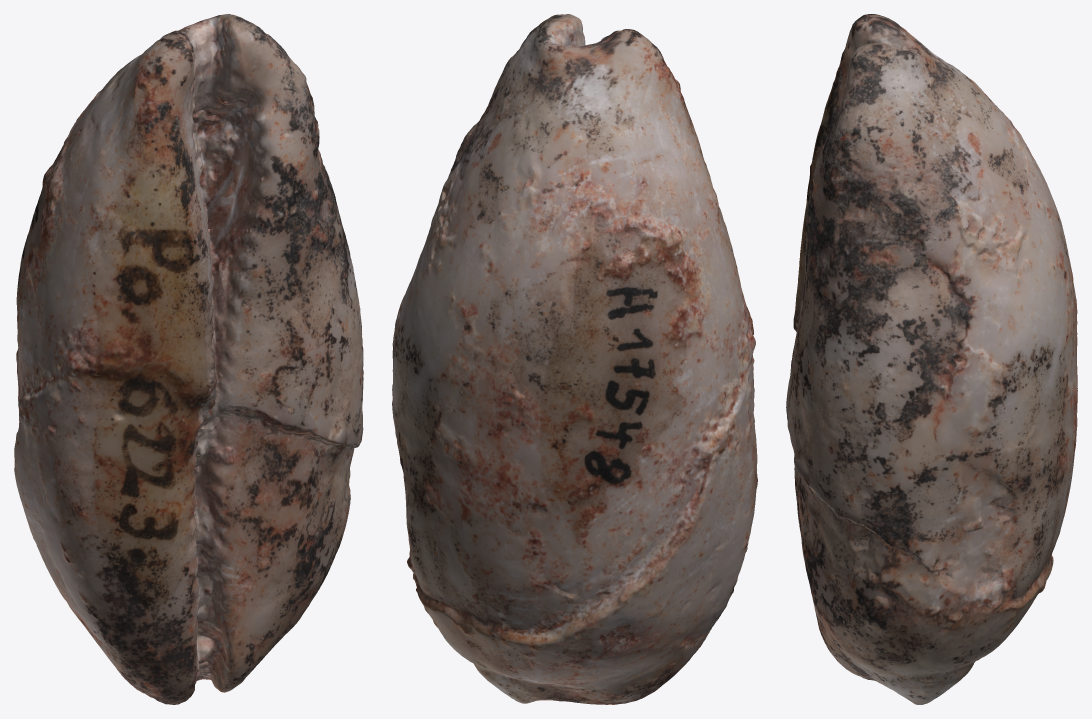
File: EWS0012659.glb
The picture shows the model from 3 angles, left to right: view 1: azimuth 30°, elevation 25°; view 2: azimuth 150°, elevation 25°; view 3: azimuth 270°, elevation 25°; orthographic projection. The views are drawn at different scales.
Parts seen in each view (by area): view 1: input; view 2: input; view 3: input.
Part boxes in pixels (x1,y1,x2,y2): input: [14, 14, 363, 704]; input: [392, 14, 757, 704]; input: [786, 14, 1077, 704].
Size of the model in its own units: 0.016 by 0.0325 by 0.0132.
Materials: 1 (1 with a texture image).
